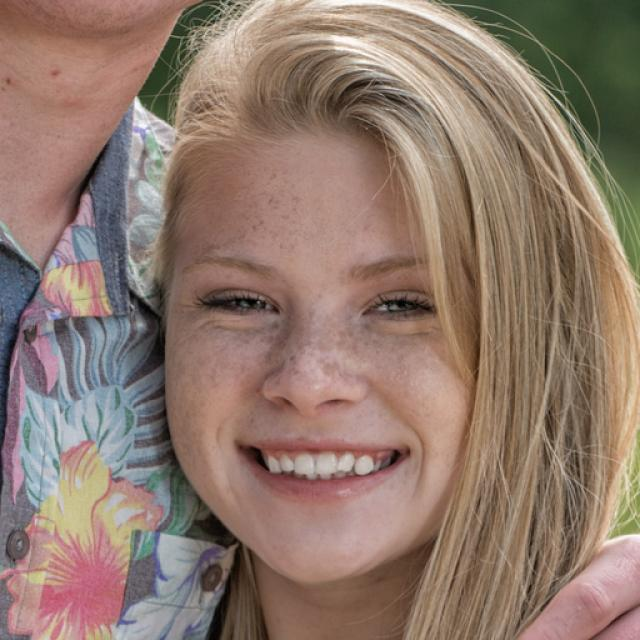Pigmentation: (206, 157, 311, 256), (262, 308, 373, 390)
